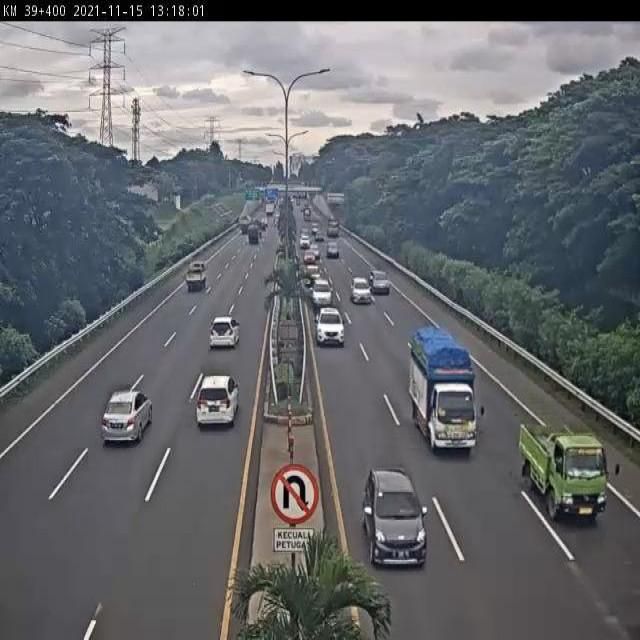car: (361, 465, 427, 567), (101, 389, 154, 447), (194, 375, 240, 429), (209, 313, 240, 351), (315, 306, 344, 346), (311, 277, 334, 308), (349, 275, 372, 305), (369, 268, 392, 295)
truck-m-: (406, 324, 480, 456)
truck-s-: (517, 416, 611, 524), (185, 260, 209, 293)
